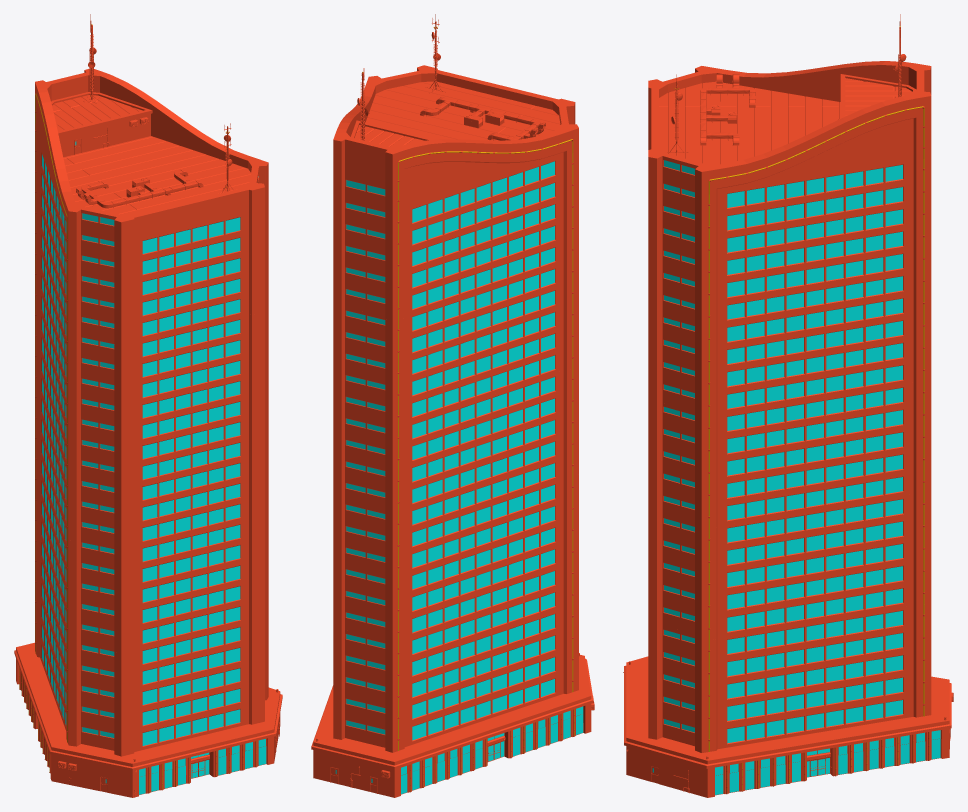
The model's file is SM_Skyscraper_C_City.fbx.
3 renders of one model, left to right at view 1: azimuth 30°, elevation 25°; view 2: azimuth 150°, elevation 25°; view 3: azimuth 270°, elevation 25°, orthographic. The views are drawn at different scales.
Parts seen in each view (by area): view 1: SM_Skyscraper_C_City; view 2: SM_Skyscraper_C_City; view 3: SM_Skyscraper_C_City.
Part boxes in pixels (<box>): SM_Skyscraper_C_City: <box>14,14,282,797</box>; SM_Skyscraper_C_City: <box>311,14,594,797</box>; SM_Skyscraper_C_City: <box>623,14,953,797</box>.
Size of the model in its own units: 35.61 by 98.26 by 40.3.
